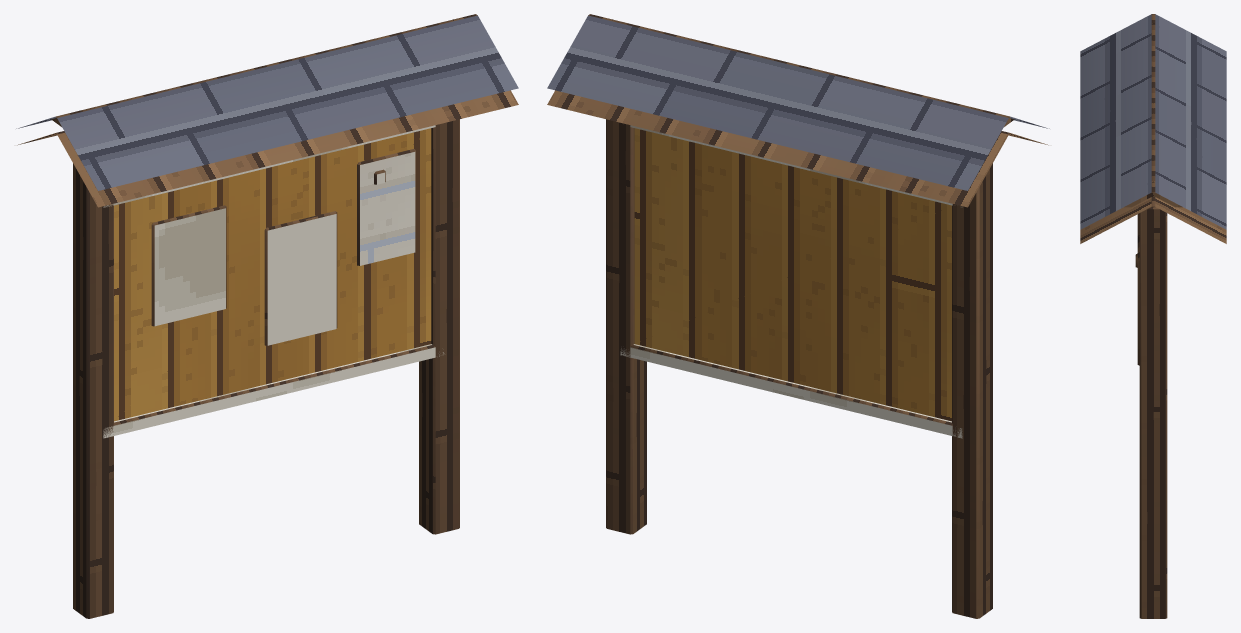
File: spec_notice_board_2.glb
3 renders of one model, left to right at view 1: azimuth 30°, elevation 25°; view 2: azimuth 150°, elevation 25°; view 3: azimuth 270°, elevation 25°, orthographic. The views are drawn at different scales.
Visible parts, largest first — view 1: spec_notice_board_2; view 2: spec_notice_board_2; view 3: spec_notice_board_2.
Boxes of the visible parts, x1,y1,x2,y2 form: spec_notice_board_2: [16, 14, 518, 618]; spec_notice_board_2: [547, 14, 1049, 618]; spec_notice_board_2: [1080, 14, 1226, 618].
Size of the model in its own units: 2.14 by 2.44 by 0.74.
Materials: 8 (8 with a texture image).
